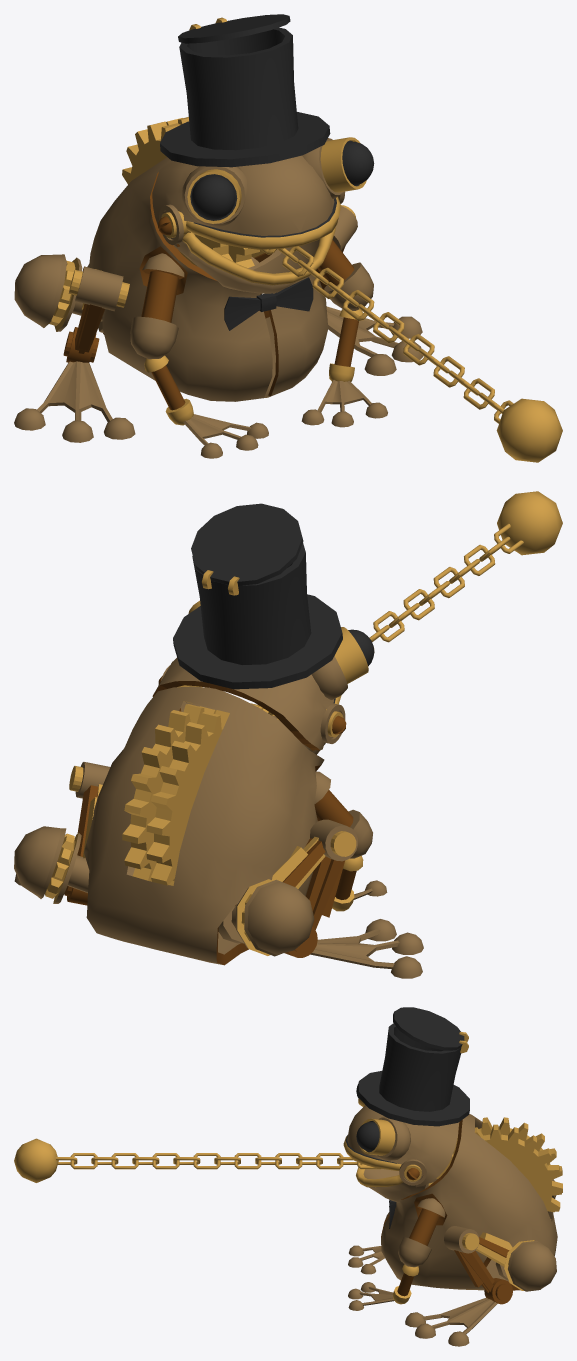
Rendered from FROG.FBX.
3 views of the same model, one above another, from view 1: azimuth 30°, elevation 25°; view 2: azimuth 150°, elevation 25°; view 3: azimuth 270°, elevation 25° (orthographic). The views are drawn at different scales.
Visible parts, largest first — view 1: GeoSphere001, Cylinder011, Object003, Object006, Object002, Object004, GeoSphere002, Box001, Star002, Cylinder012, Star001; view 2: GeoSphere001, Cylinder011, Object006, Object004, Cylinder012, Star002, Star001, Object003, GeoSphere002; view 3: GeoSphere001, Cylinder011, Object006, Object003, Star001, Object004, Cylinder012, GeoSphere002, Object002, Star002.
Boxes of the visible parts, left/top/right/bottom form: GeoSphere001: left=87, top=137, right=374, bottom=401; Cylinder011: left=160, top=27, right=330, bottom=167; Object003: left=130, top=239, right=387, bottom=458; Object006: left=14, top=205, right=423, bottom=442; Object002: left=173, top=227, right=335, bottom=293; Object004: left=14, top=254, right=261, bottom=332; GeoSphere002: left=496, top=398, right=562, bottom=462; Box001: left=224, top=277, right=313, bottom=330; Star002: left=122, top=121, right=233, bottom=266; Cylinder012: left=178, top=14, right=290, bottom=43; Star001: left=166, top=117, right=259, bottom=267; GeoSphere001: left=84, top=600, right=374, bottom=965; Cylinder011: left=173, top=543, right=342, bottom=689; Object006: left=14, top=762, right=423, bottom=978; Object004: left=14, top=826, right=314, bottom=956; Cylinder012: left=191, top=503, right=303, bottom=595; Star002: left=146, top=710, right=229, bottom=885; Star001: left=122, top=704, right=216, bottom=881; Object003: left=314, top=771, right=387, bottom=911; GeoSphere002: left=497, top=491, right=562, bottom=555; GeoSphere001: left=343, top=1084, right=557, bottom=1290; Cylinder011: left=358, top=1023, right=469, bottom=1126; Object006: left=405, top=1226, right=512, bottom=1346; Object003: left=348, top=1198, right=445, bottom=1310; Star001: left=428, top=1124, right=562, bottom=1219; Object004: left=495, top=1179, right=556, bottom=1291; Cylinder012: left=393, top=1007, right=468, bottom=1053; GeoSphere002: left=14, top=1138, right=58, bottom=1182; Object002: left=356, top=1164, right=425, bottom=1202; Star002: left=436, top=1117, right=562, bottom=1212.
Size of the model in its own units: 98.95 by 172 by 90.62.
